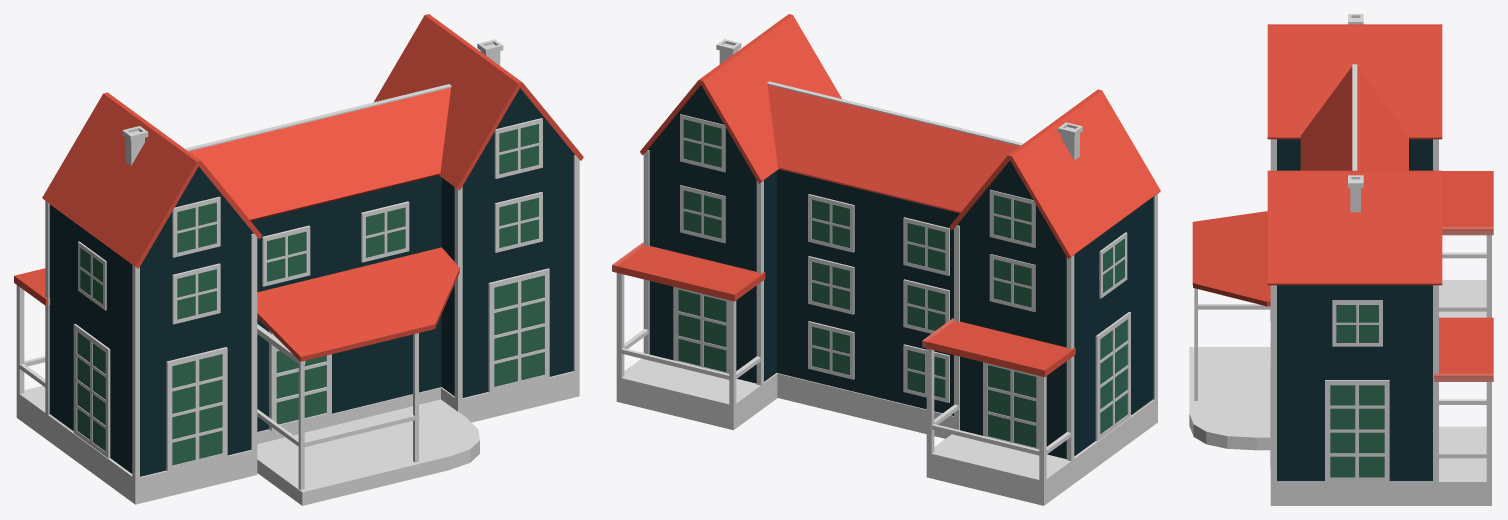
File: House_10.FBX
3 views of the same model, side by side, from view 1: azimuth 30°, elevation 25°; view 2: azimuth 150°, elevation 25°; view 3: azimuth 270°, elevation 25° (orthographic). The views are drawn at different scales.
Parts seen in each view (by area): view 1: House_10; view 2: House_10; view 3: House_10.
Boxes of the visible parts, left/top/right/bottom form: House_10: left=14, top=14, right=583, bottom=505; House_10: left=612, top=14, right=1160, bottom=505; House_10: left=1189, top=14, right=1493, bottom=505.
Size of the model in its own units: 8.86 by 6.19 by 5.56.
Materials: 1 (1 with a texture image).
